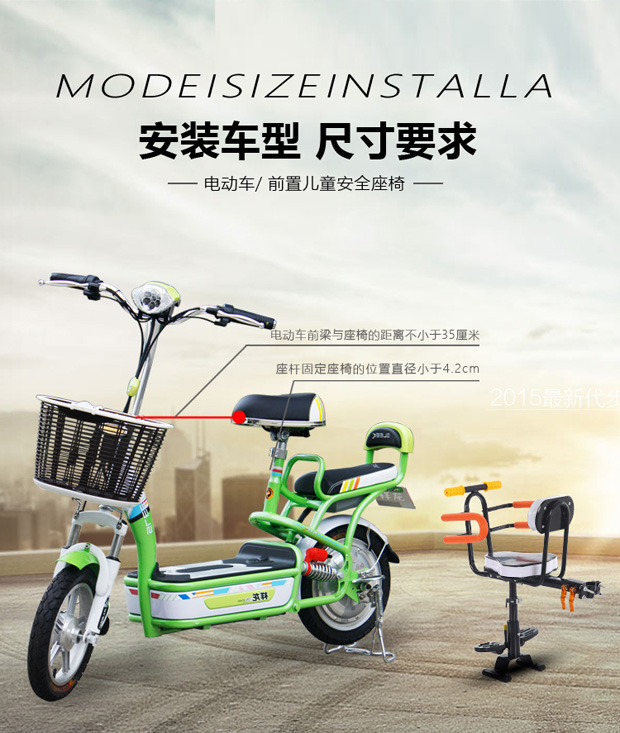电动车: (20, 260, 430, 712)
